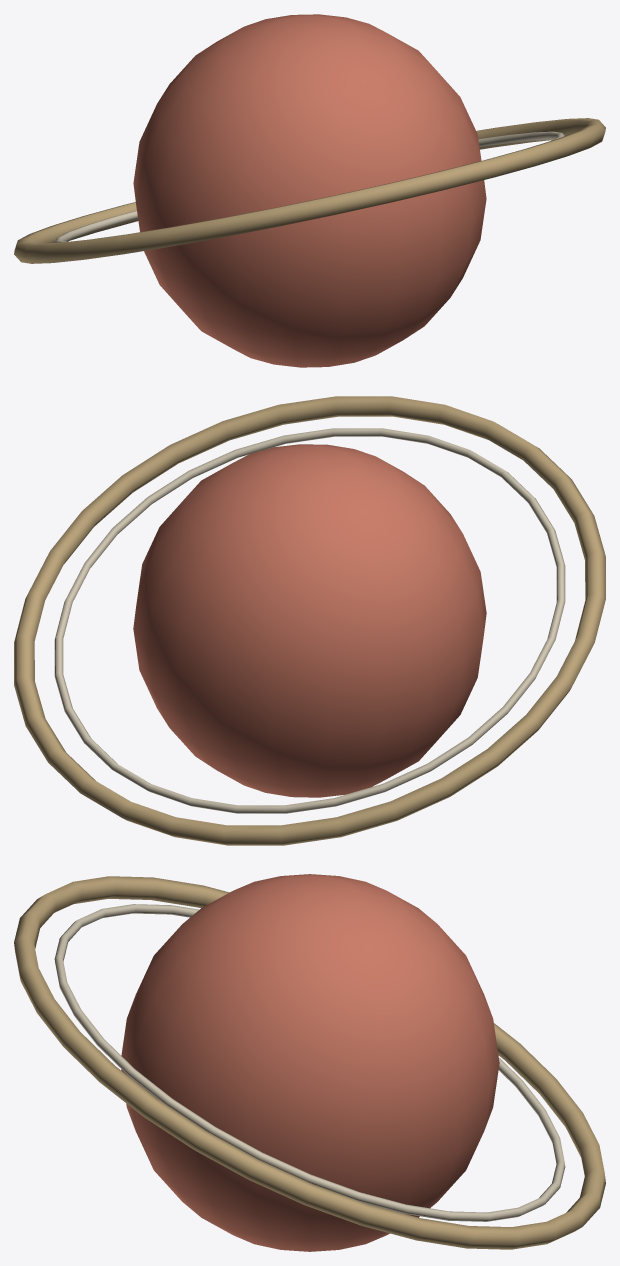
The model's file is planet-ring-lod1.glb.
3 renders of one model, top to bottom at view 1: azimuth 30°, elevation 25°; view 2: azimuth 150°, elevation 25°; view 3: azimuth 270°, elevation 25°, orthographic. The views are drawn at different scales.
Visible parts, largest first — view 1: shell; view 2: shell; view 3: shell.
Part boxes in pixels (<box>): shell: <box>14,14,605,367</box>; shell: <box>14,396,605,845</box>; shell: <box>14,874,605,1251</box>.
Size of the model in its own units: 3.42 by 2 by 3.12.
